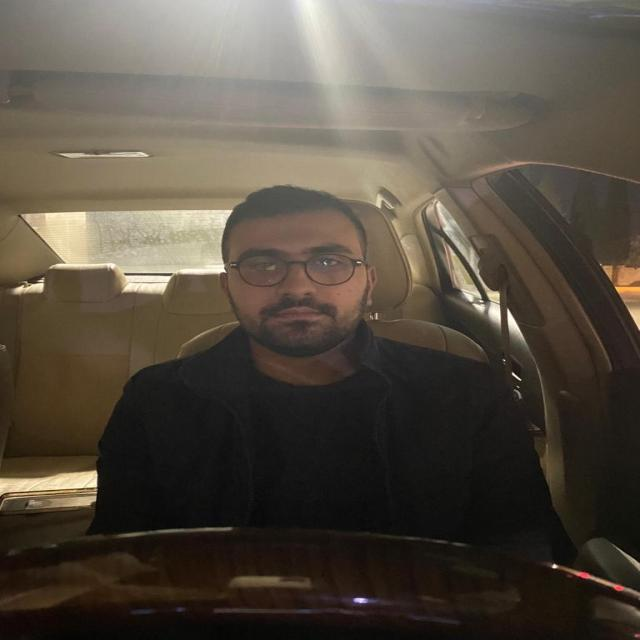person: (207, 179, 385, 361)
